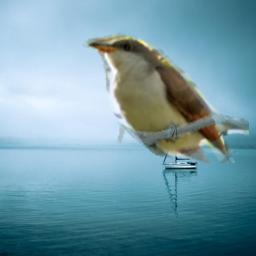Cuckoo: (82, 25, 249, 163)
